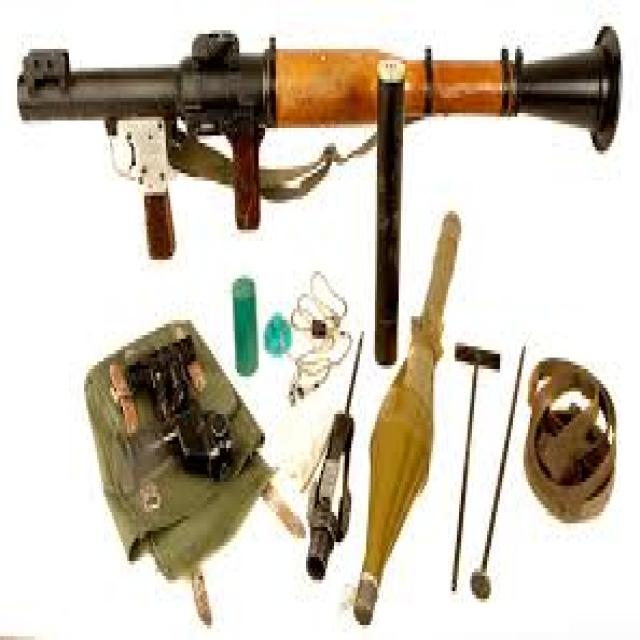Gun: (6, 8, 640, 200)
